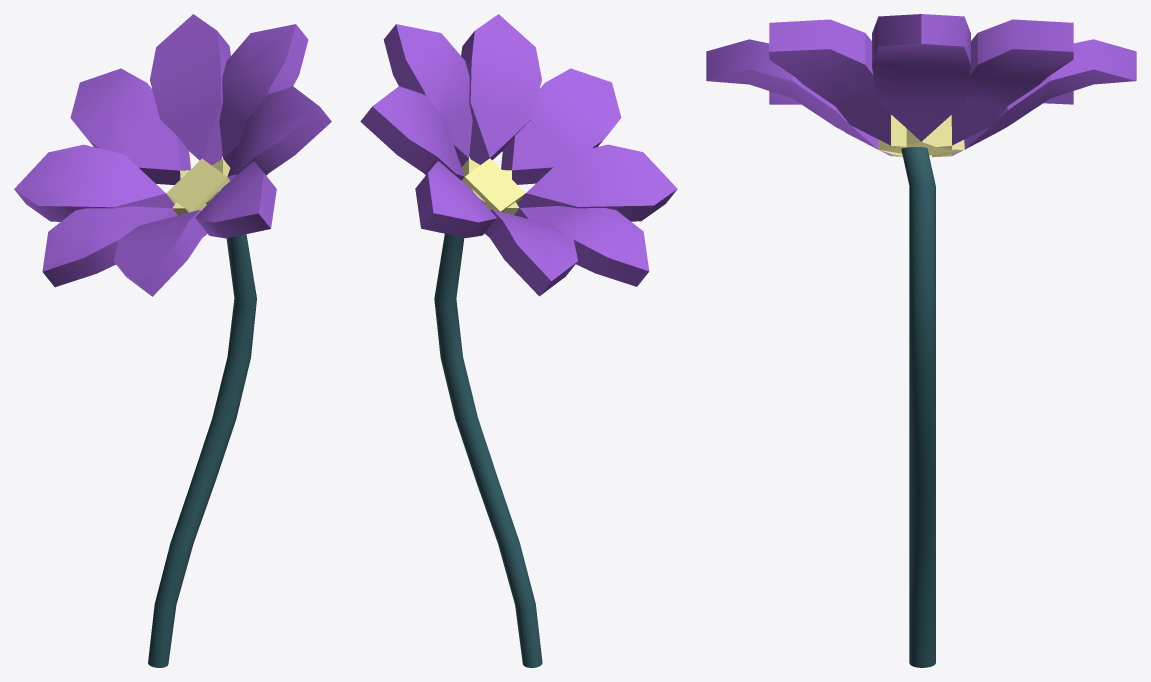
Rendered from OBJ_Big_Flowers_Basic.obj.
3 renders of one model, left to right at view 1: azimuth 30°, elevation 25°; view 2: azimuth 150°, elevation 25°; view 3: azimuth 270°, elevation 25°, orthographic. The views are drawn at different scales.
Parts seen in each view (by area): view 1: pCylinder10; view 2: pCylinder10; view 3: pCylinder10.
Boxes of the visible parts, x1,y1,x2,y2 form: pCylinder10: (14, 14, 331, 667); pCylinder10: (360, 14, 677, 667); pCylinder10: (706, 14, 1136, 667).
Size of the model in its own units: 122 by 265 by 141.
